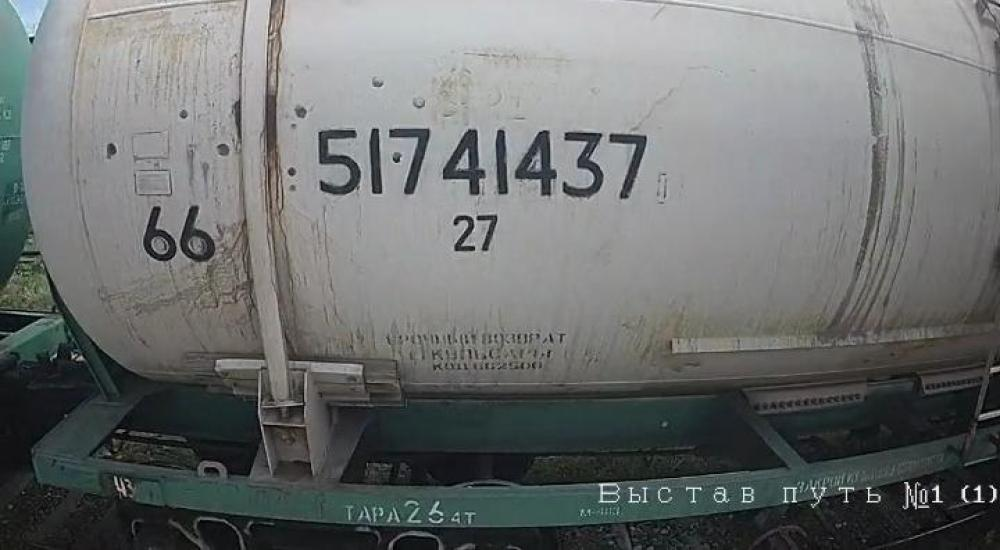Wagon-number: (312, 121, 657, 208)
